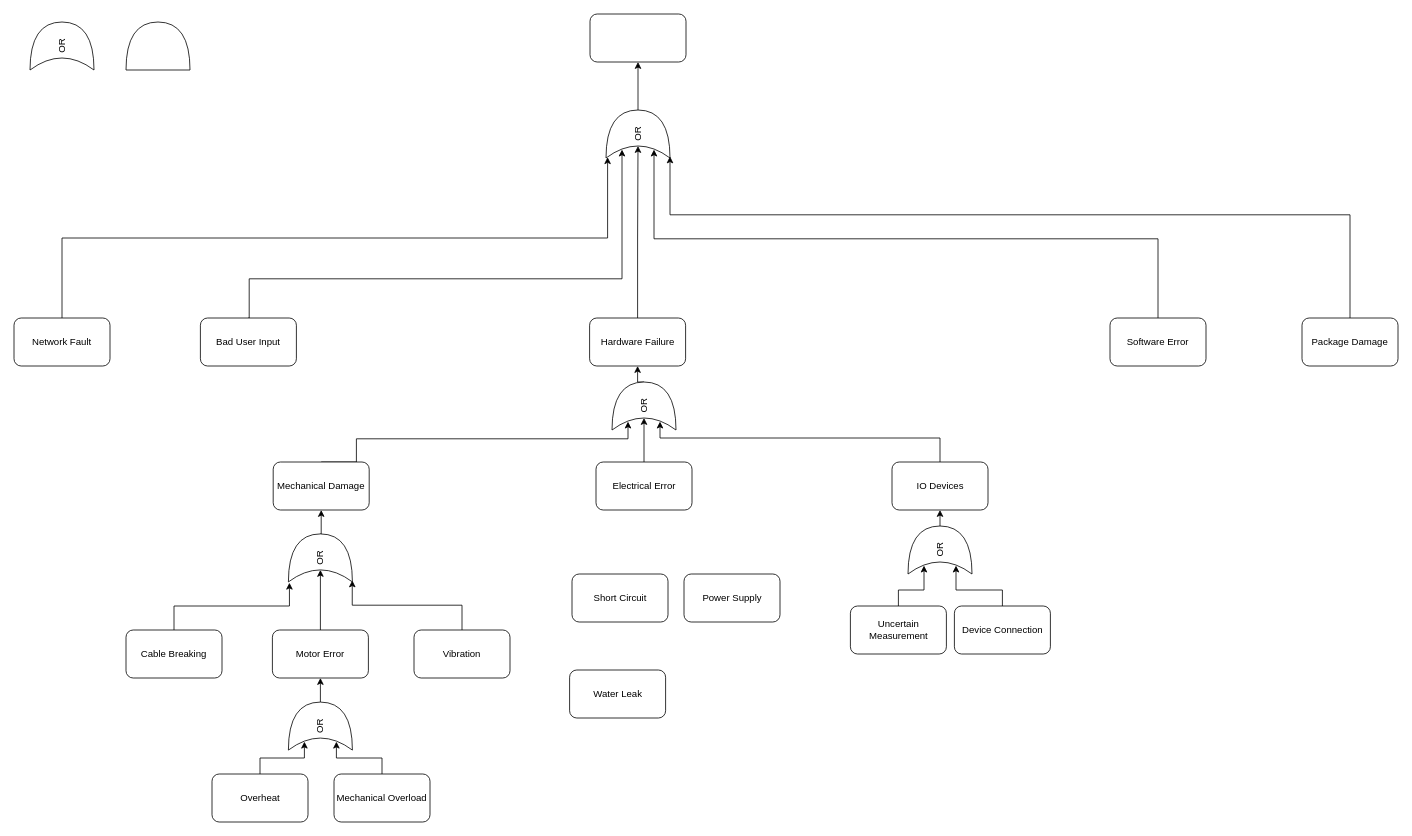
The diagram is 1412 pixels wide and 836 high, and some of its shapes have lost their labels. The box of each missing label's shape, as (x1, y1, x2, y2) in pixels:
AND: (125, 21, 190, 70)
Conveyor Error: (589, 13, 686, 62)
